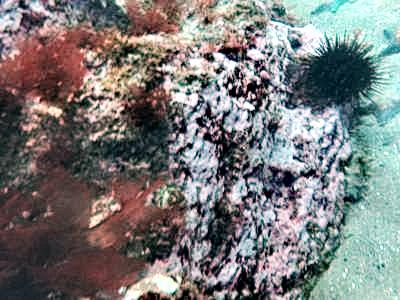urchin: (292, 30, 376, 108)
